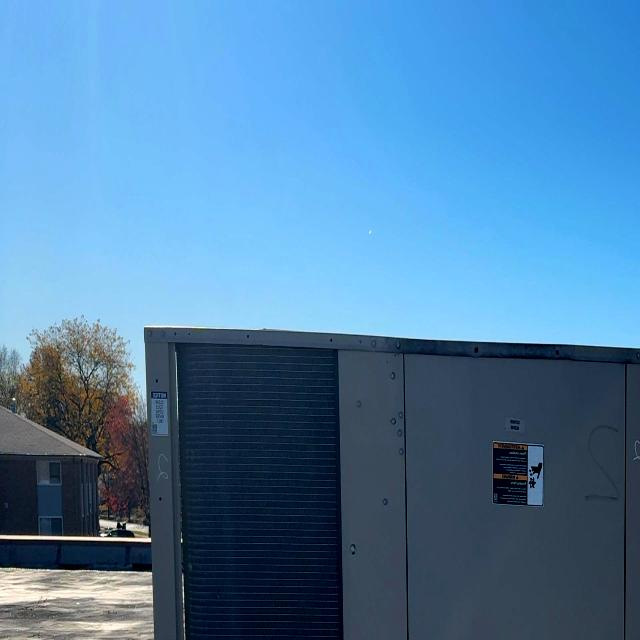RTU: (104, 288, 639, 640)
